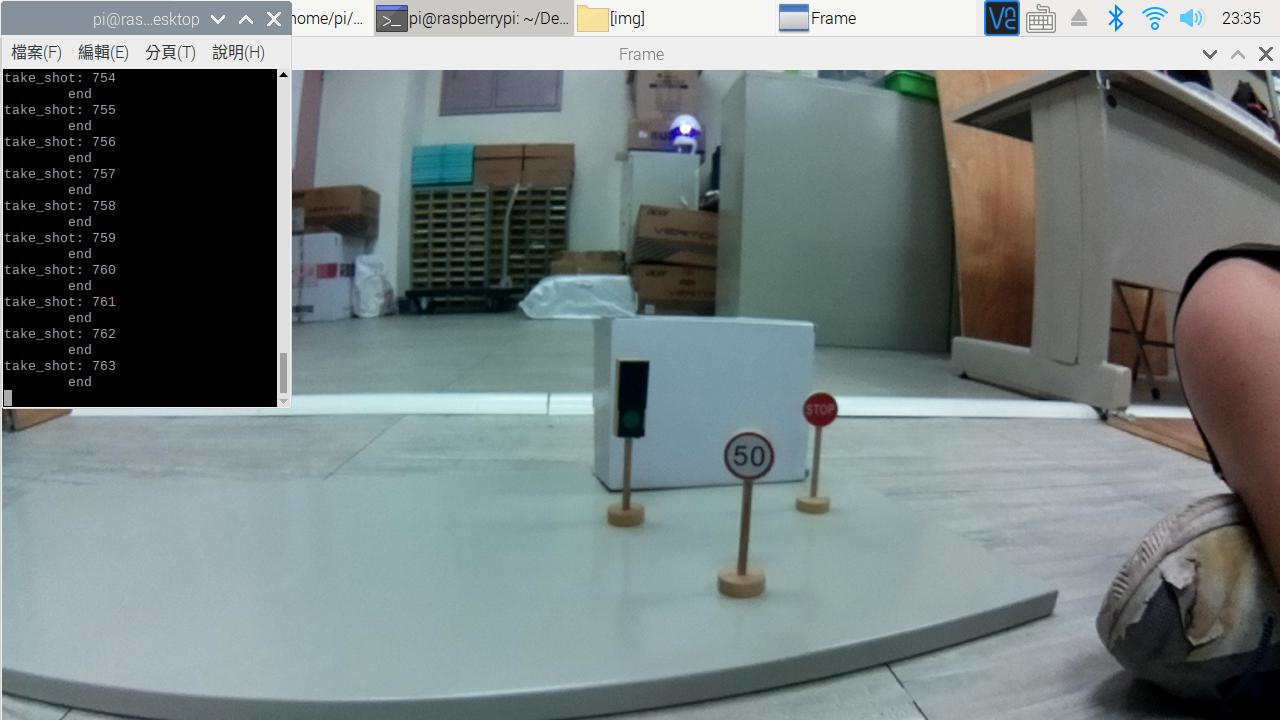Green: (594, 355, 665, 444)
Speed50: (712, 426, 782, 485)
Stop: (799, 383, 844, 435)
